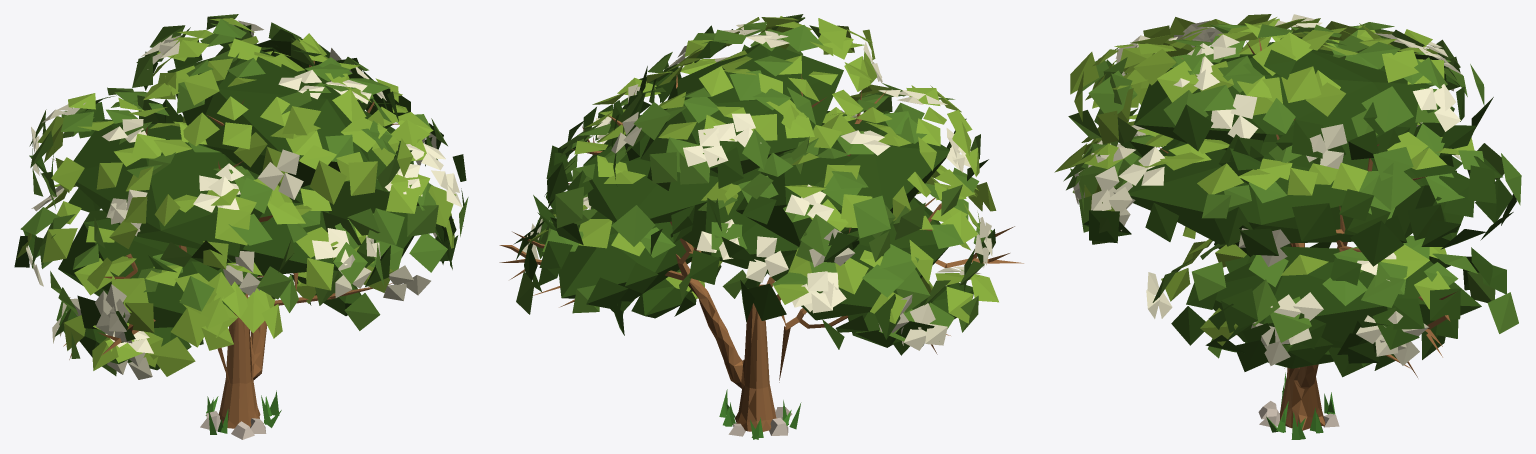
The model's file is laurel_bloom.glb.
The picture shows the model from 3 angles, left to right: view 1: azimuth 30°, elevation 25°; view 2: azimuth 150°, elevation 25°; view 3: azimuth 270°, elevation 25°; orthographic projection. The views are drawn at different scales.
Visible parts, largest first — view 1: laurel_bloom; view 2: laurel_bloom; view 3: laurel_bloom.
Boxes of the visible parts, x1,y1,x2,y2 form: laurel_bloom: (14, 14, 468, 439); laurel_bloom: (499, 14, 1023, 439); laurel_bloom: (1054, 14, 1521, 439).
Bounding box in the file's own units: 7.65 × 6.67 × 7.13.
